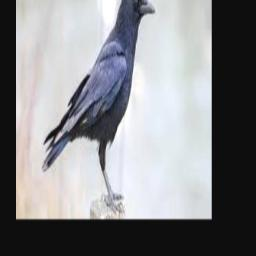Crow: (41, 0, 155, 214)
